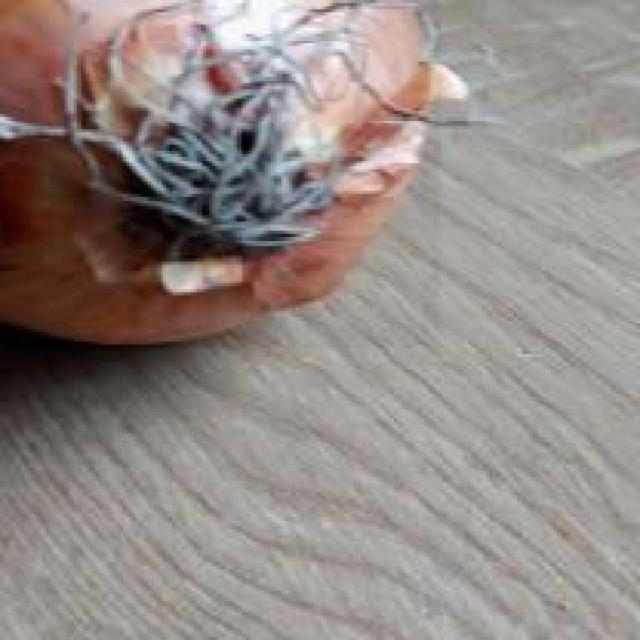onion: (0, 0, 443, 351)
